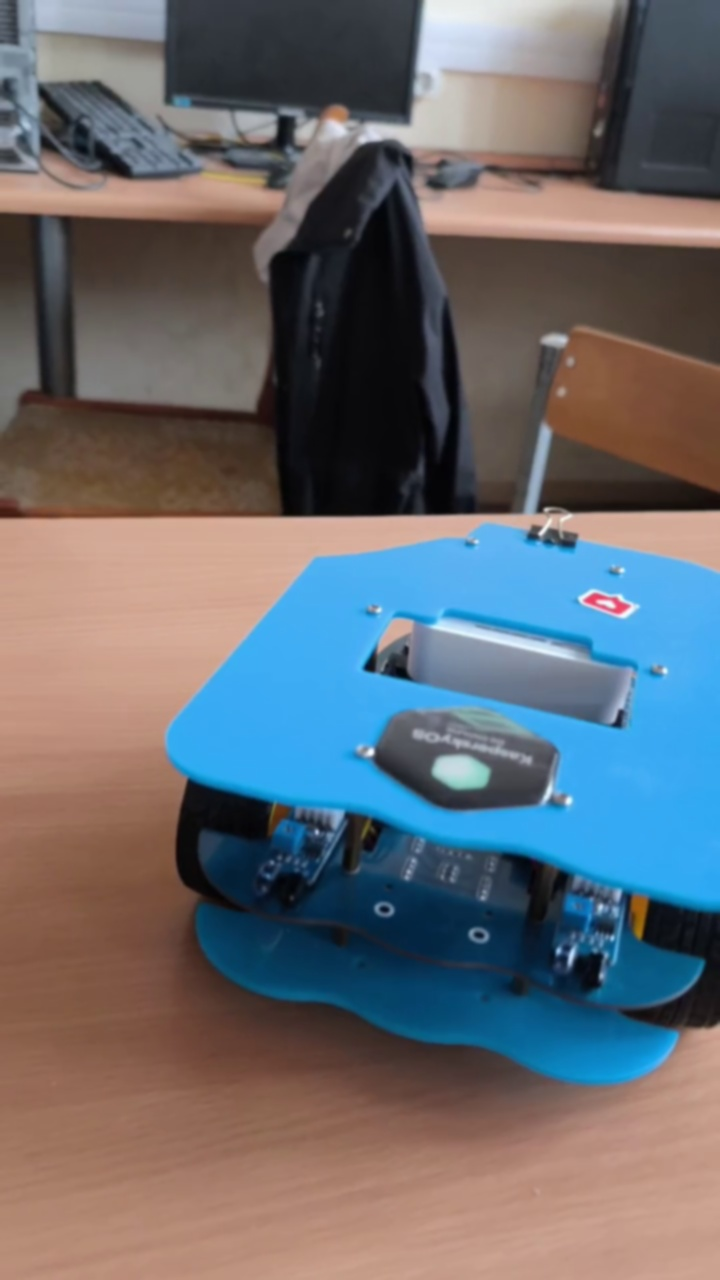robot: (160, 504, 720, 1089)
